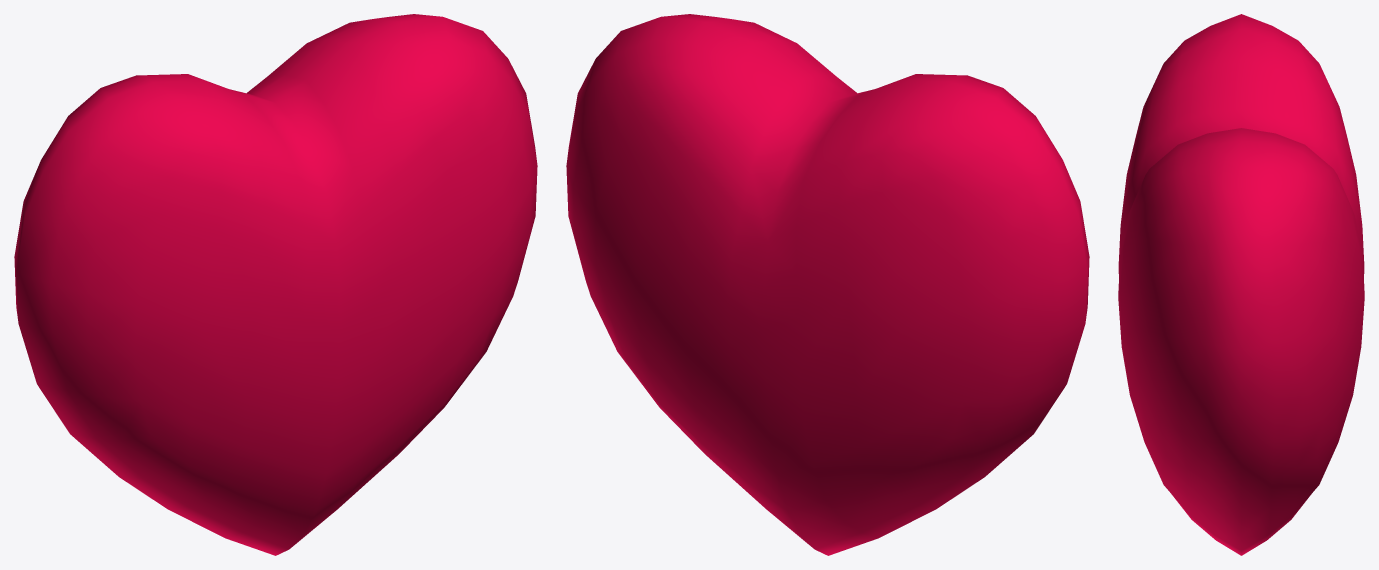
Rendered from Heart.glb.
3 views of the same model, side by side, from view 1: azimuth 30°, elevation 25°; view 2: azimuth 150°, elevation 25°; view 3: azimuth 270°, elevation 25° (orthographic). The views are drawn at different scales.
Parts seen in each view (by area): view 1: Heart; view 2: Heart; view 3: Heart.
Part boxes in pixels (x1,y1,x2,y2): Heart: [14, 14, 537, 555]; Heart: [566, 14, 1089, 555]; Heart: [1118, 14, 1364, 555].
Size of what is drawn, in the model's own units: 0.274 by 0.2544 by 0.1207.
